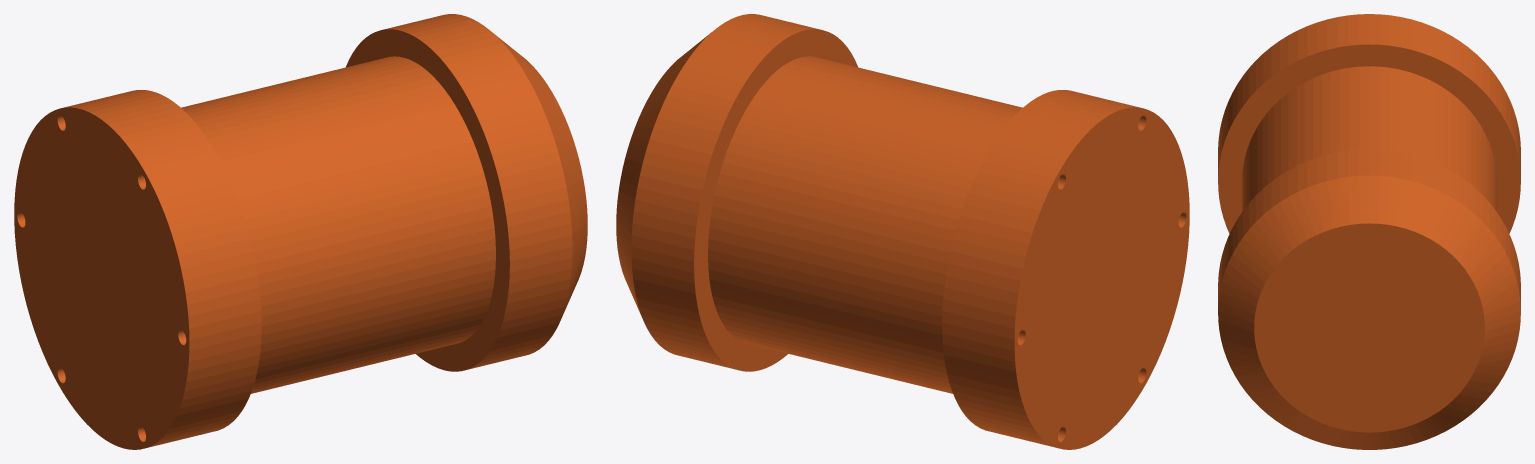
Rendered from navquest_dvl.dae.
The picture shows the model from 3 angles, left to right: view 1: azimuth 30°, elevation 25°; view 2: azimuth 150°, elevation 25°; view 3: azimuth 270°, elevation 25°; orthographic projection. The views are drawn at different scales.
Visible parts, largest first — view 1: Navquest_Micro_600_DVL_v1; view 2: Navquest_Micro_600_DVL_v1; view 3: Navquest_Micro_600_DVL_v1.
Part boxes in pixels (box(x1,y1,x2,y2)): Navquest_Micro_600_DVL_v1: box(14, 14, 587, 449); Navquest_Micro_600_DVL_v1: box(616, 14, 1189, 449); Navquest_Micro_600_DVL_v1: box(1218, 14, 1520, 449).
Size of the model in its own units: 0.174 by 0.126 by 0.126.
